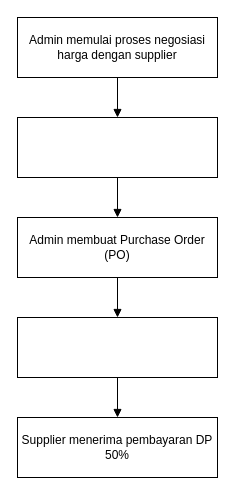
This 235x495 diagram has some shape labels left out. The centre of each missing label's shape, as x and y in pixels:
Negosiasi dilakukan melalui sistem hingga harga disepakati: (117,147)
Supplier menerima PO dan mengirimkan barang: (117,347)
